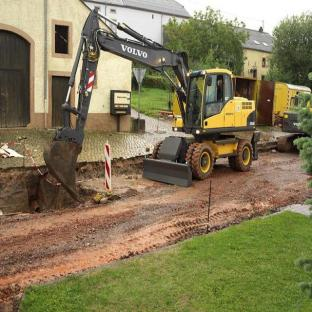ExcavationMachinery: (44, 8, 269, 188)
